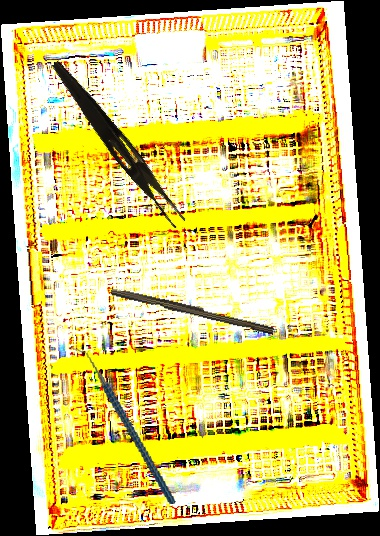Chopper: (70, 332, 176, 518)
Dressing Forceps: (43, 58, 192, 230)
Scalpel Handle: (109, 285, 276, 335)
